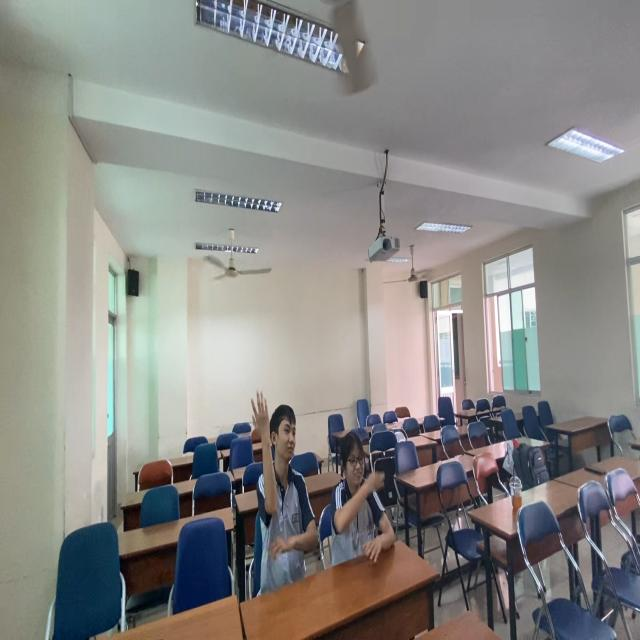raise_hand: (252, 388, 320, 576)
